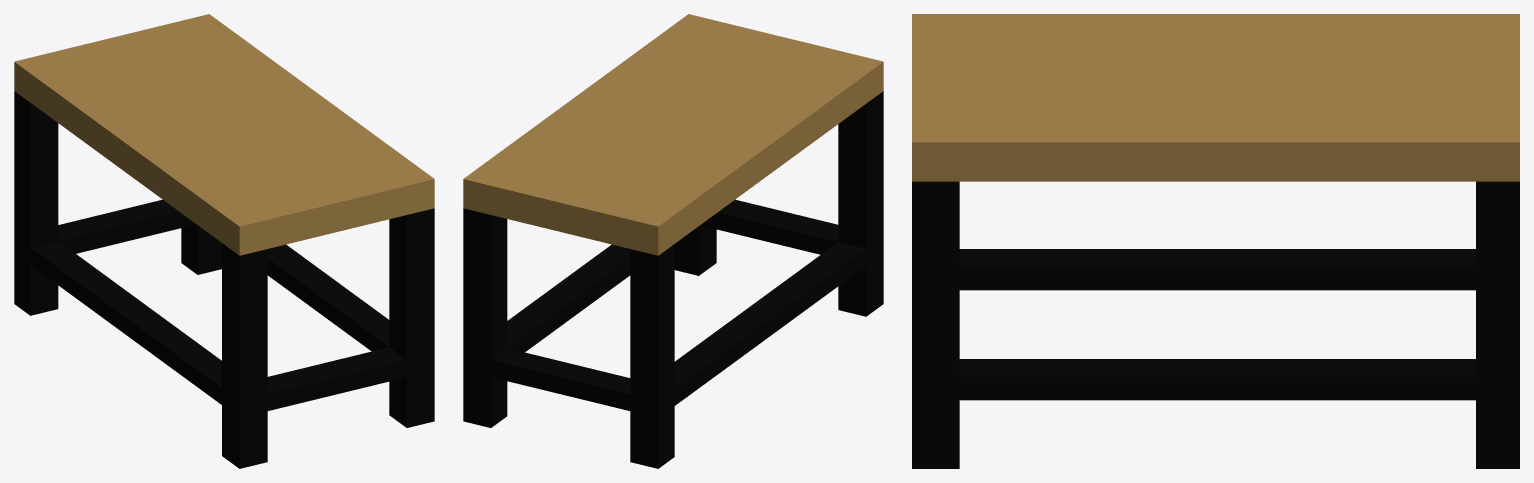
The model's file is table.glb.
3 renders of one model, left to right at view 1: azimuth 30°, elevation 25°; view 2: azimuth 150°, elevation 25°; view 3: azimuth 270°, elevation 25°, orthographic. The views are drawn at different scales.
Parts seen in each view (by area): view 1: Cube; view 2: Cube; view 3: Cube.
Part boxes in pixels (x1,y1,x2,y2): Cube: (14, 14, 434, 468); Cube: (463, 14, 883, 468); Cube: (912, 14, 1519, 468).
Bounding box in the file's own units: 3.13 × 3.72 × 6.27.
